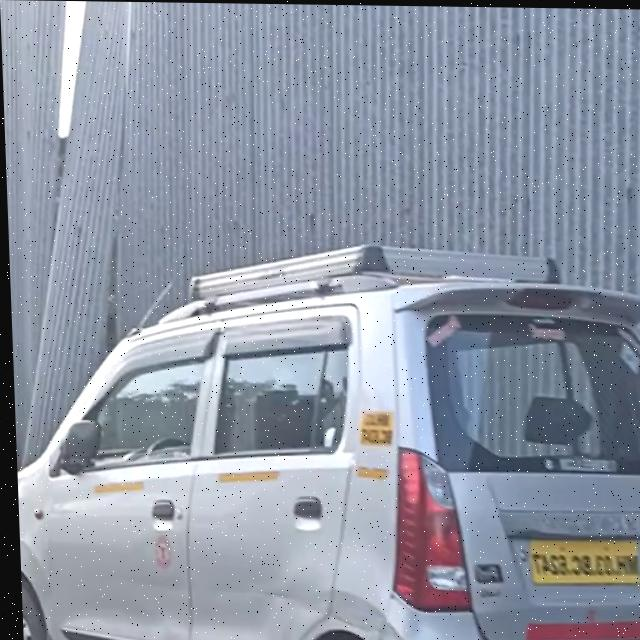plate: (524, 537, 640, 587), (355, 407, 393, 446)
